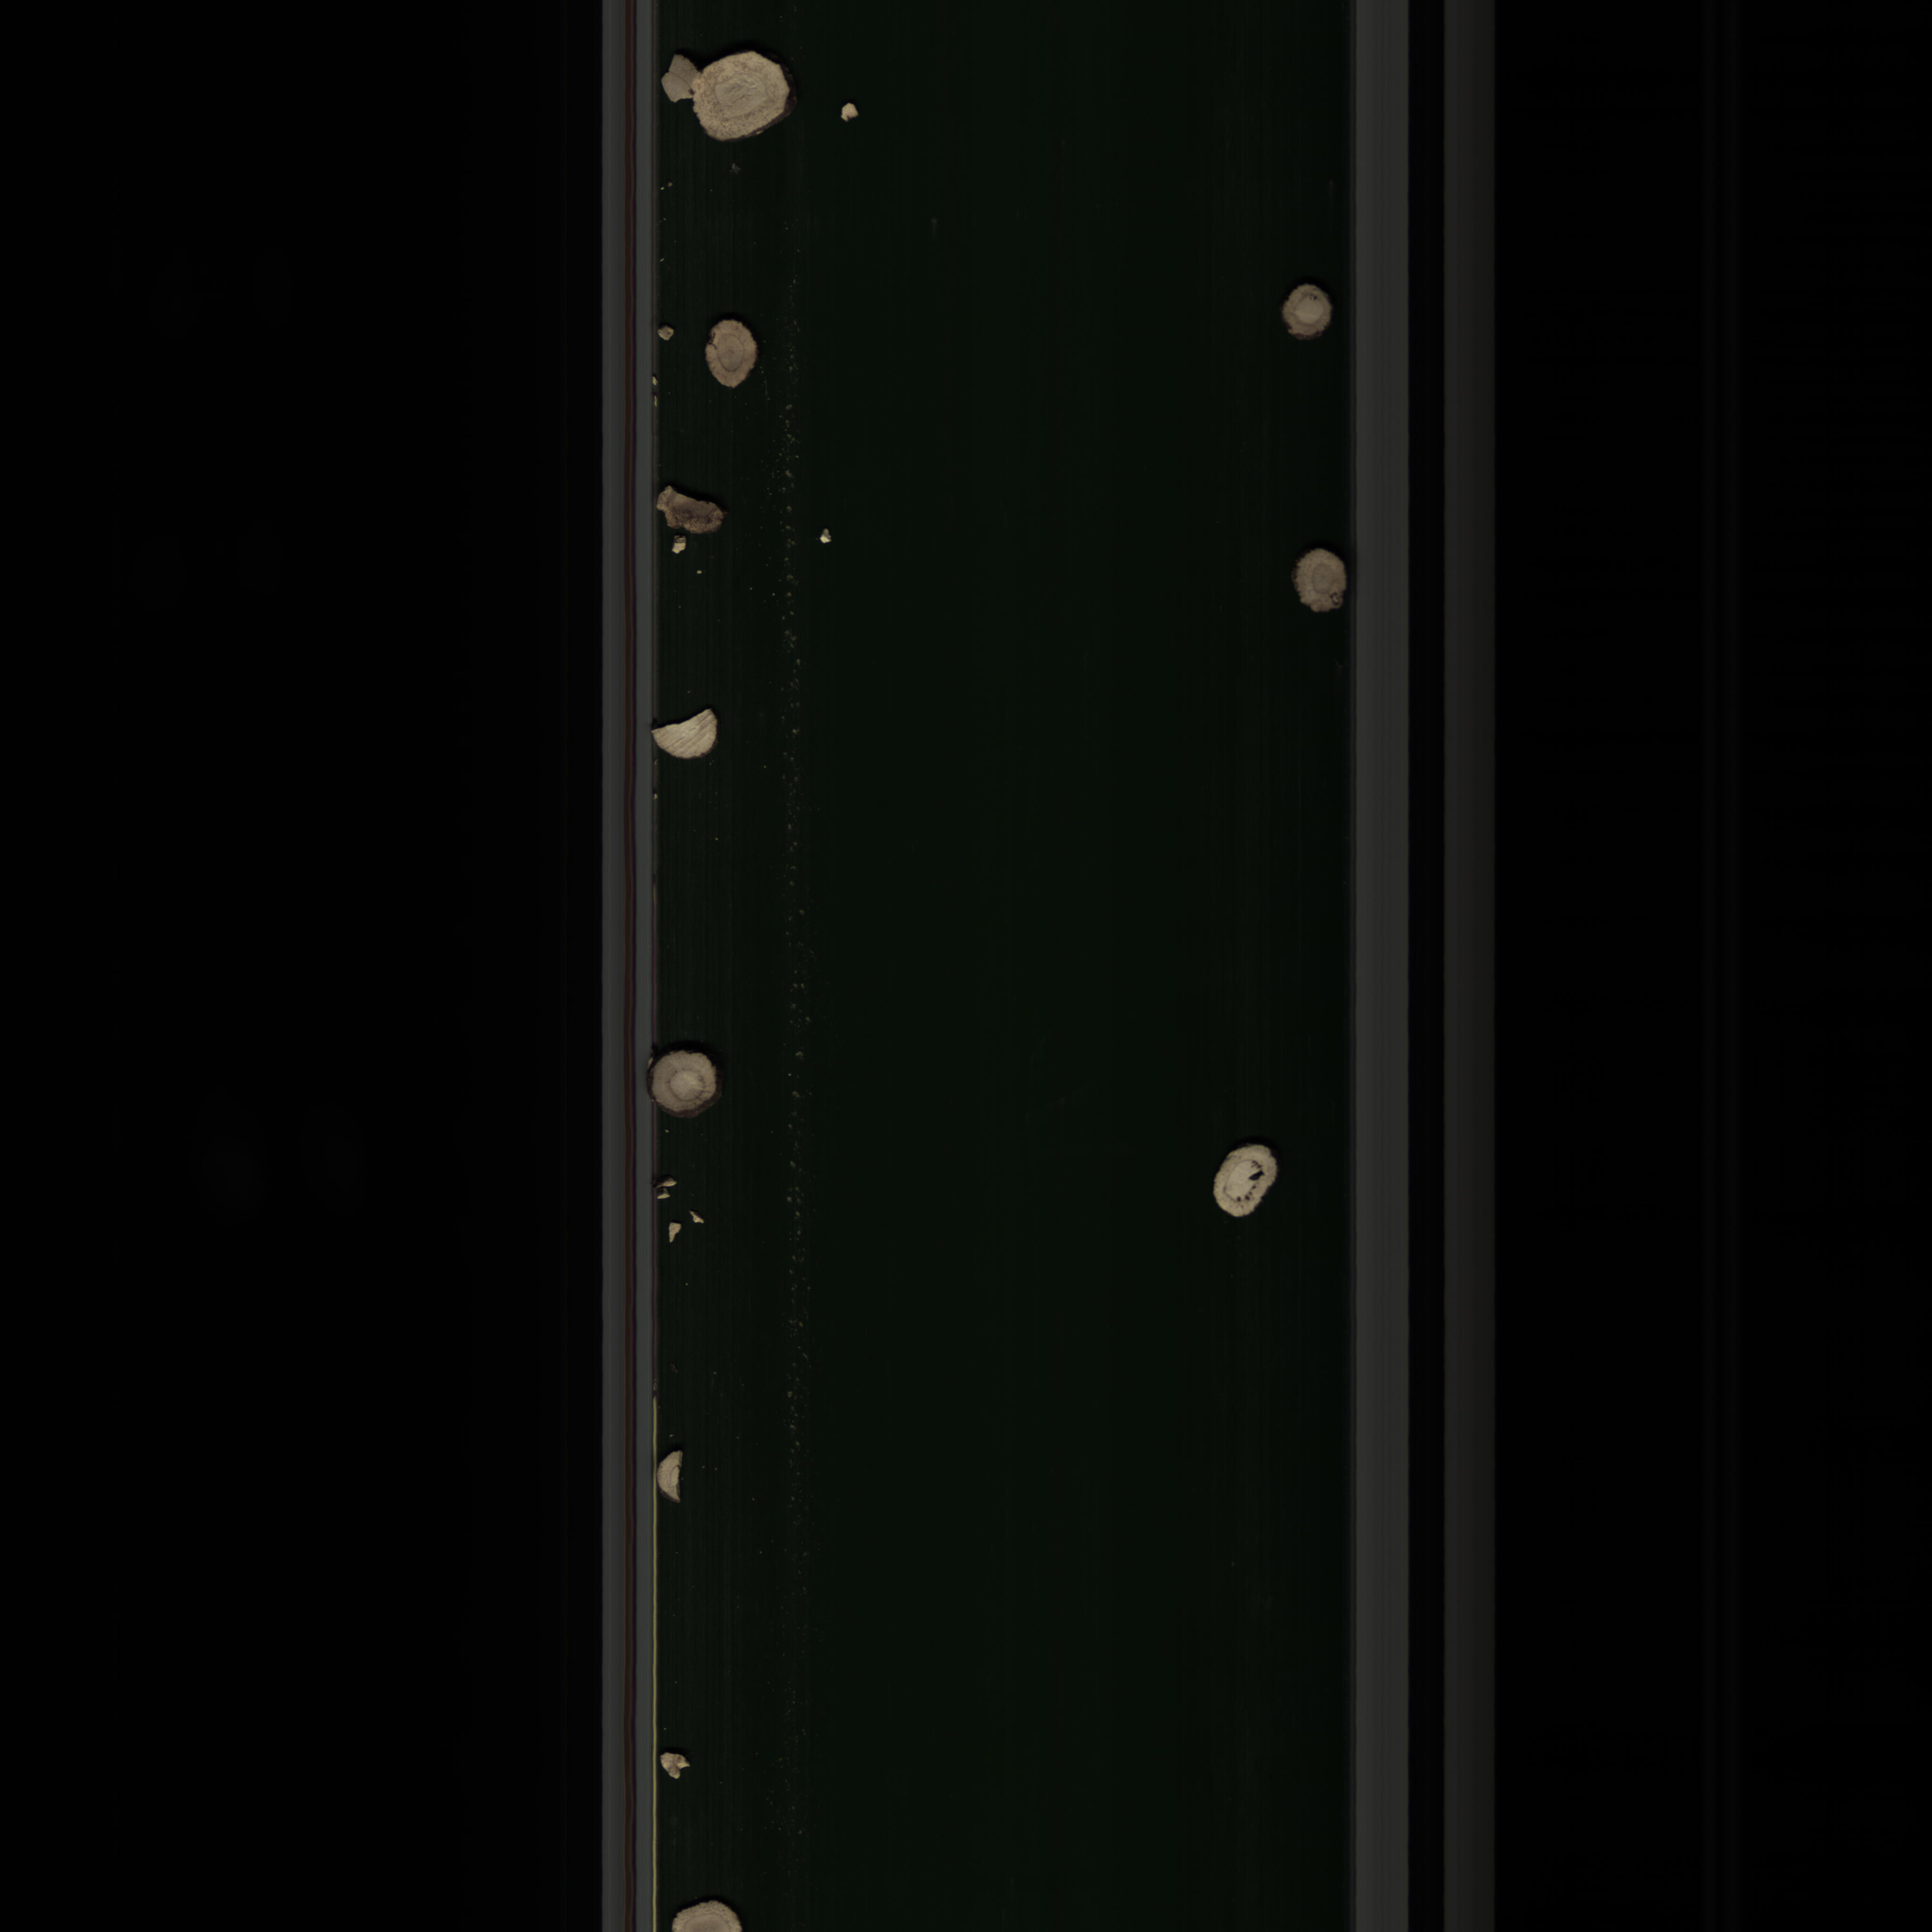bark: (656, 476, 741, 543)
debris: (649, 708, 727, 770), (656, 1447, 686, 1507), (656, 1748, 694, 1785)
hole: (1203, 1136, 1292, 1237)
moldy: (701, 313, 761, 391), (1292, 545, 1352, 617), (1283, 278, 1343, 345)
